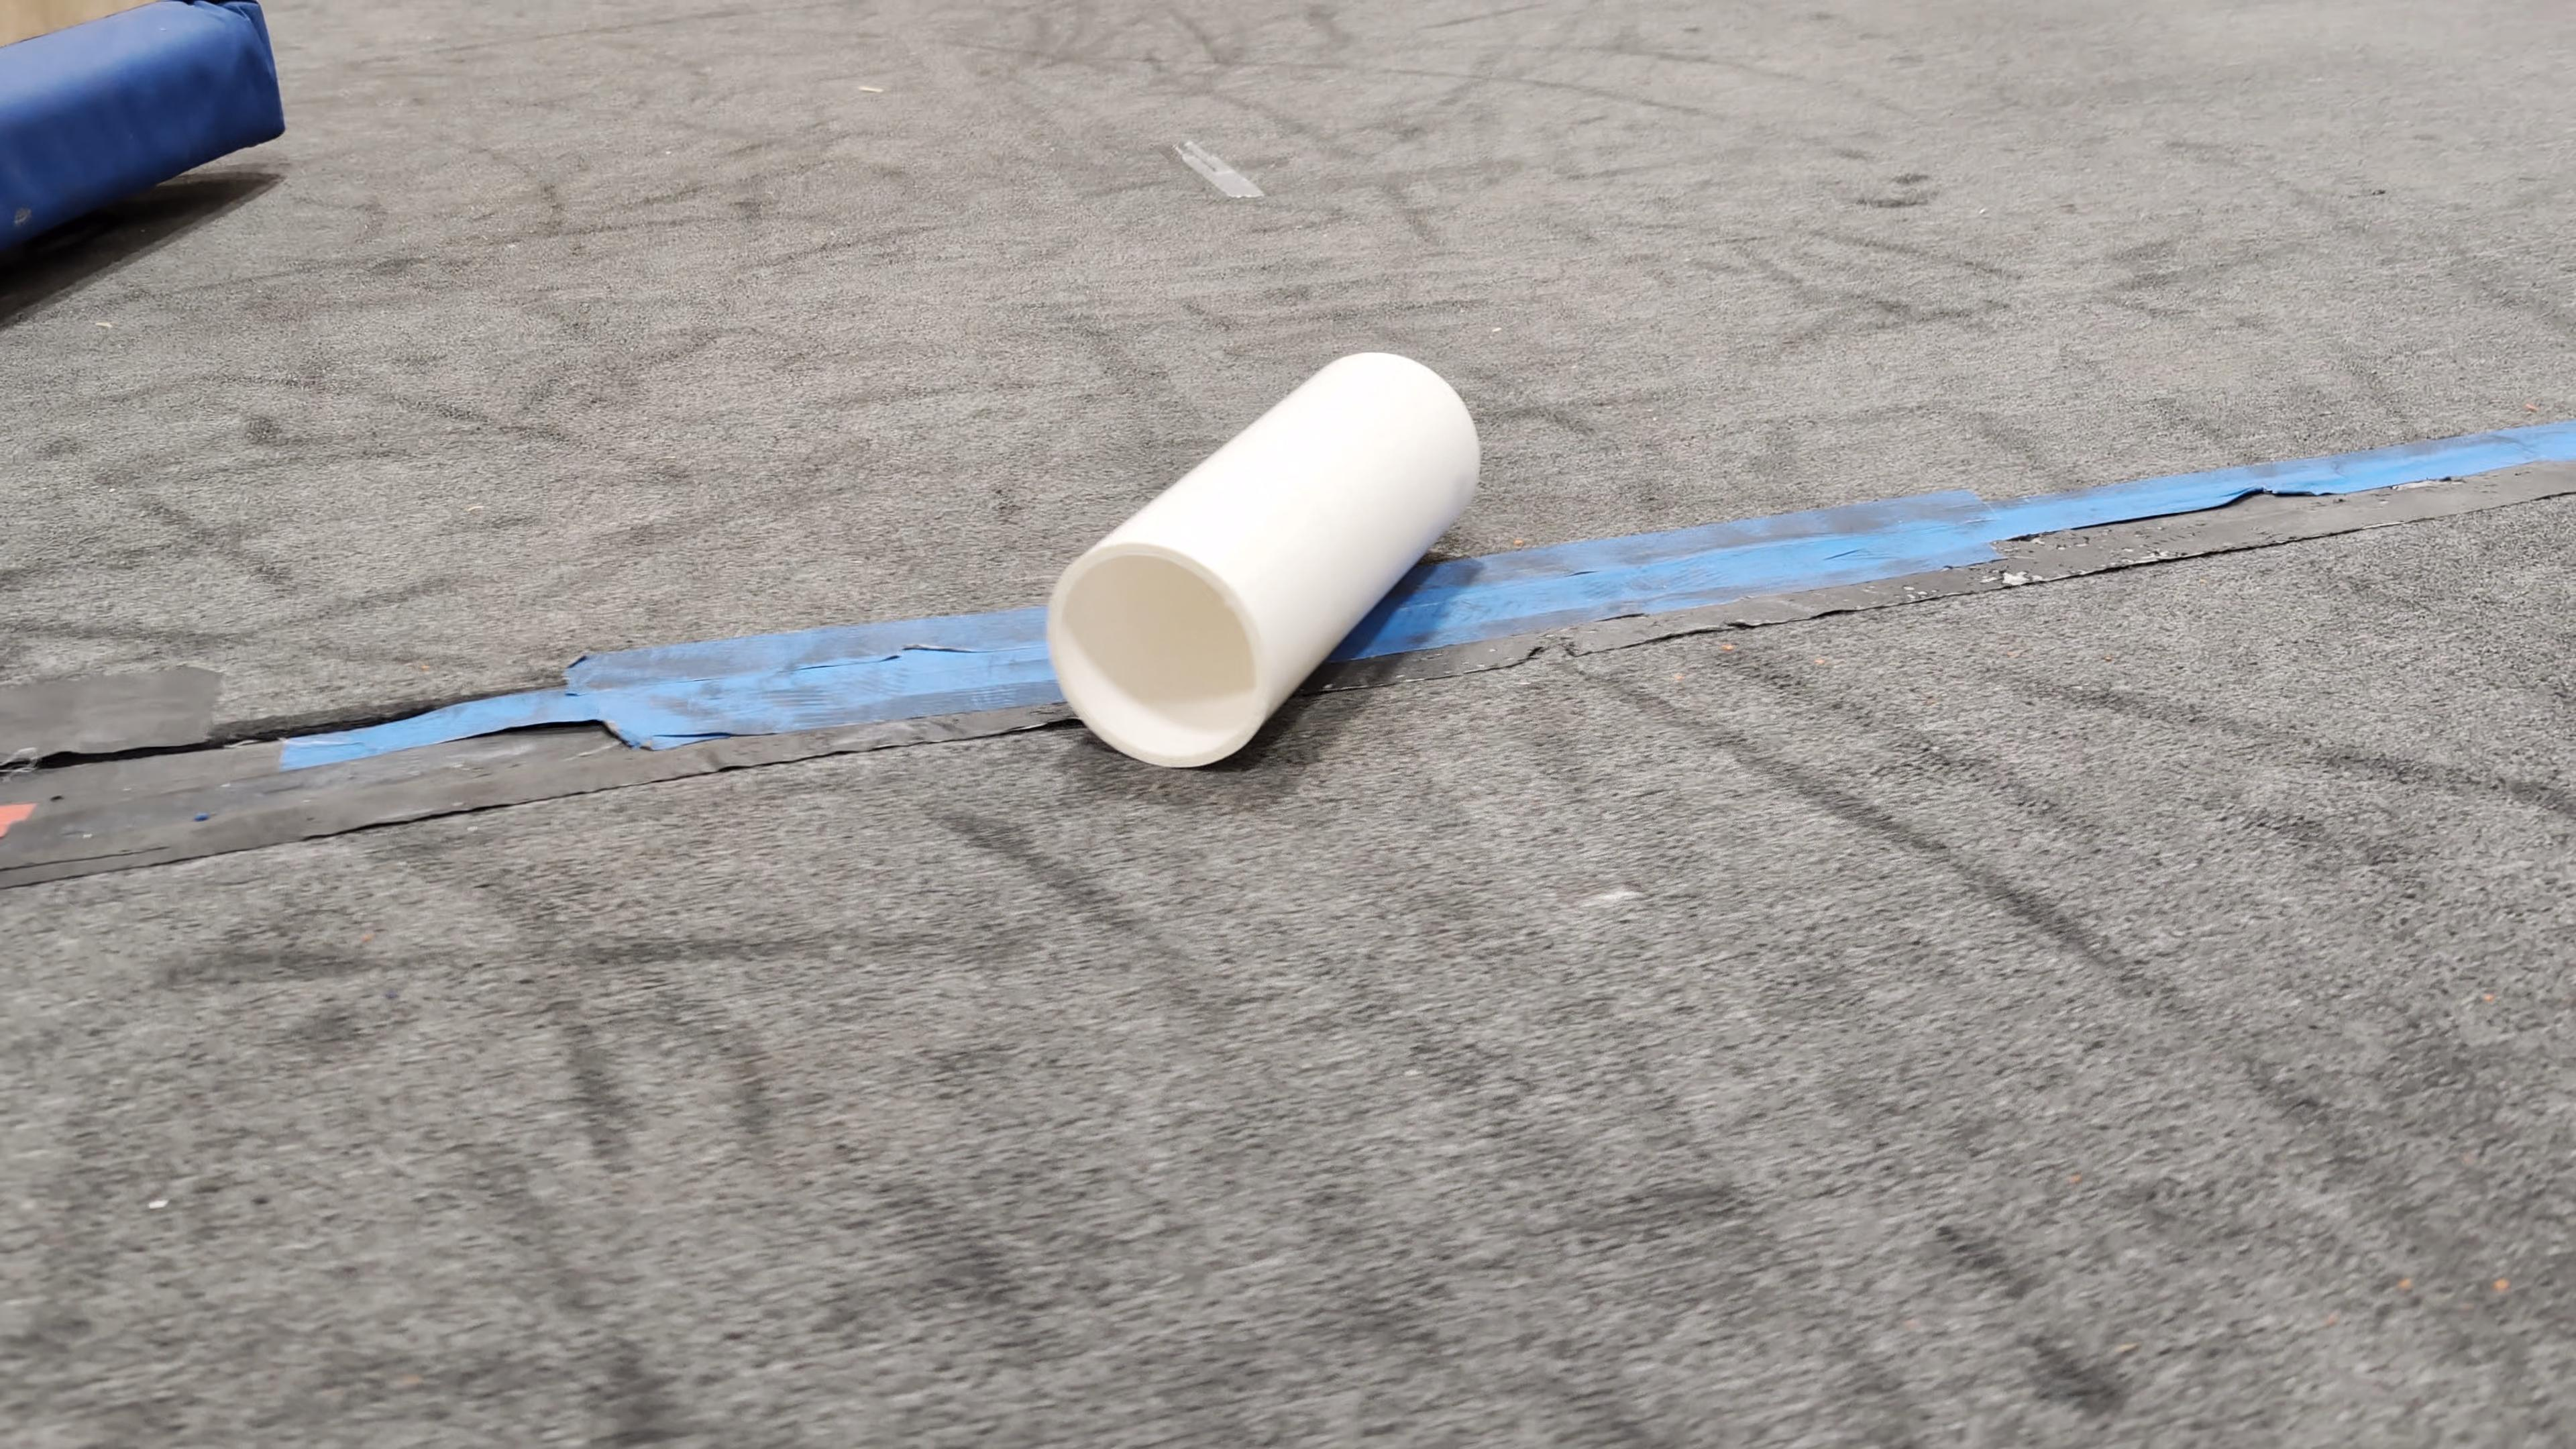coral: (1044, 347, 1484, 770)
